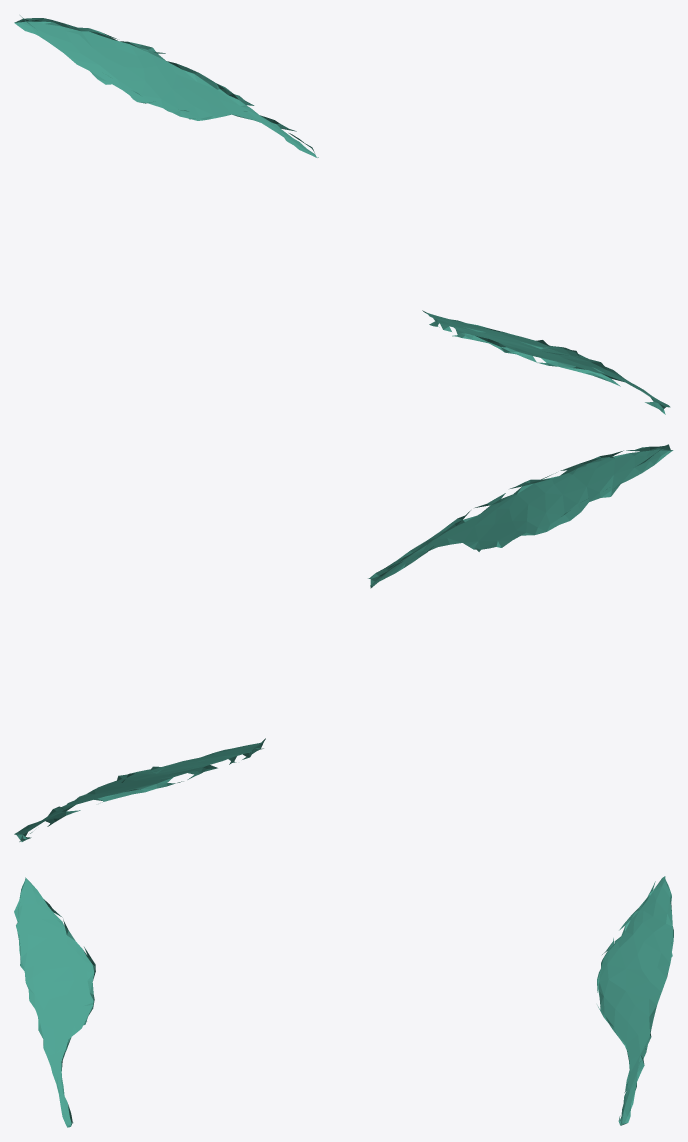
3 views of the same model, one above another, from view 1: azimuth 30°, elevation 25°; view 2: azimuth 150°, elevation 25°; view 3: azimuth 270°, elevation 25° (orthographic). The views are drawn at different scales.
Parts seen in each view (by area): view 1: 1026.obj; view 2: 1026.obj; view 3: 1026.obj.
Part boxes in pixels (bbox=[...]): 1026.obj: bbox=[14, 15, 670, 414]; 1026.obj: bbox=[14, 444, 673, 841]; 1026.obj: bbox=[14, 876, 673, 1127].
Size of the model in its own units: 1887 by 1224 by 4839.
